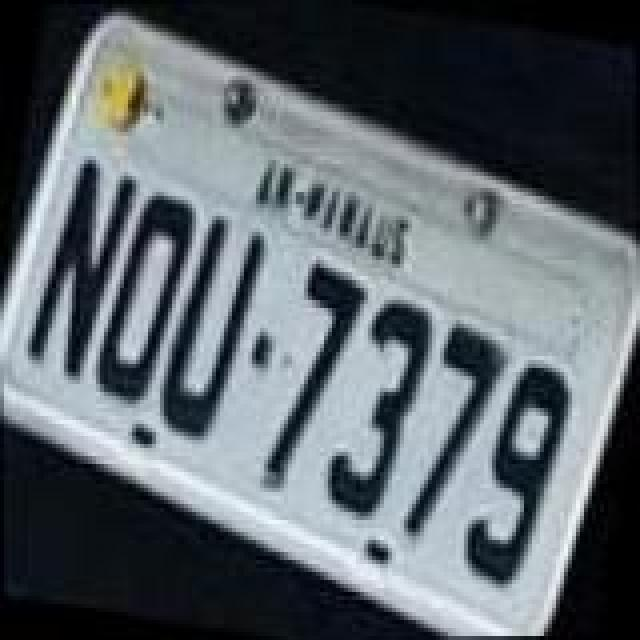3: (314, 288, 442, 528)
7: (394, 314, 522, 554), (256, 252, 376, 484)
9: (454, 348, 582, 596)
N: (20, 146, 148, 390)
O: (84, 188, 204, 412)
U: (148, 210, 276, 450)
